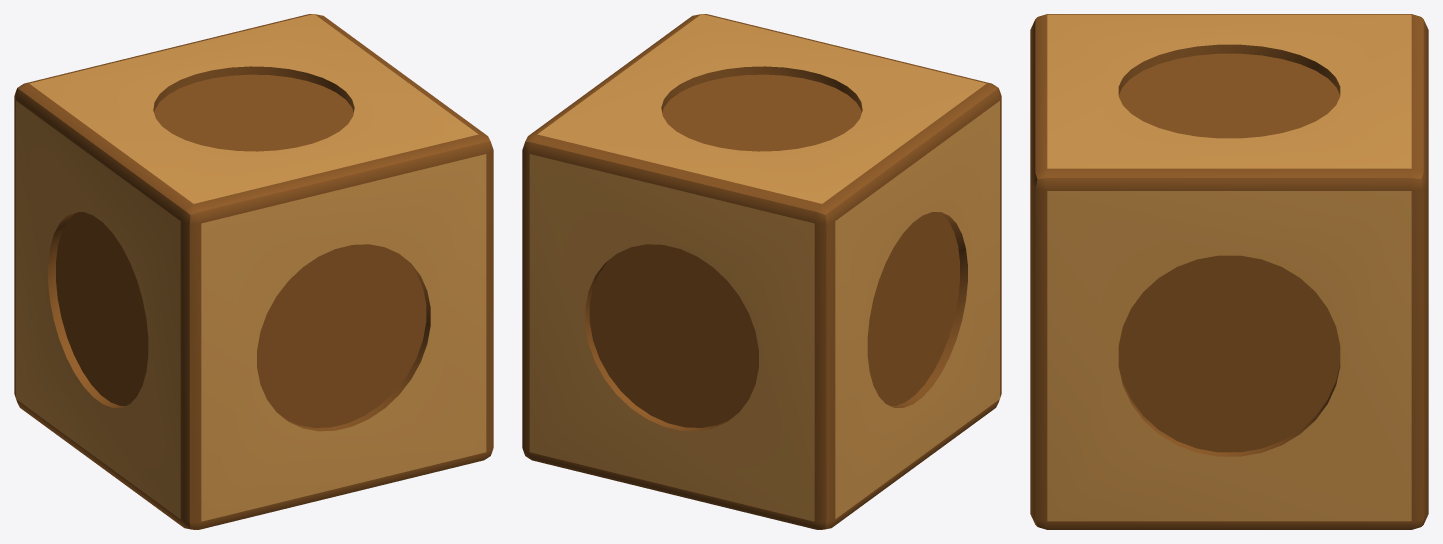
The picture shows the model from 3 angles, left to right: view 1: azimuth 30°, elevation 25°; view 2: azimuth 150°, elevation 25°; view 3: azimuth 270°, elevation 25°; orthographic projection. The views are drawn at different scales.
Visible parts, largest first — view 1: Cube_LOD0; view 2: Cube_LOD0; view 3: Cube_LOD0.
Part boxes in pixels (x1,y1,x2,y2): Cube_LOD0: [14, 14, 493, 529]; Cube_LOD0: [522, 14, 1001, 529]; Cube_LOD0: [1030, 14, 1428, 529].
Size of what is drawn, in the model's own units: 0.1746 by 0.1746 by 0.1746.
